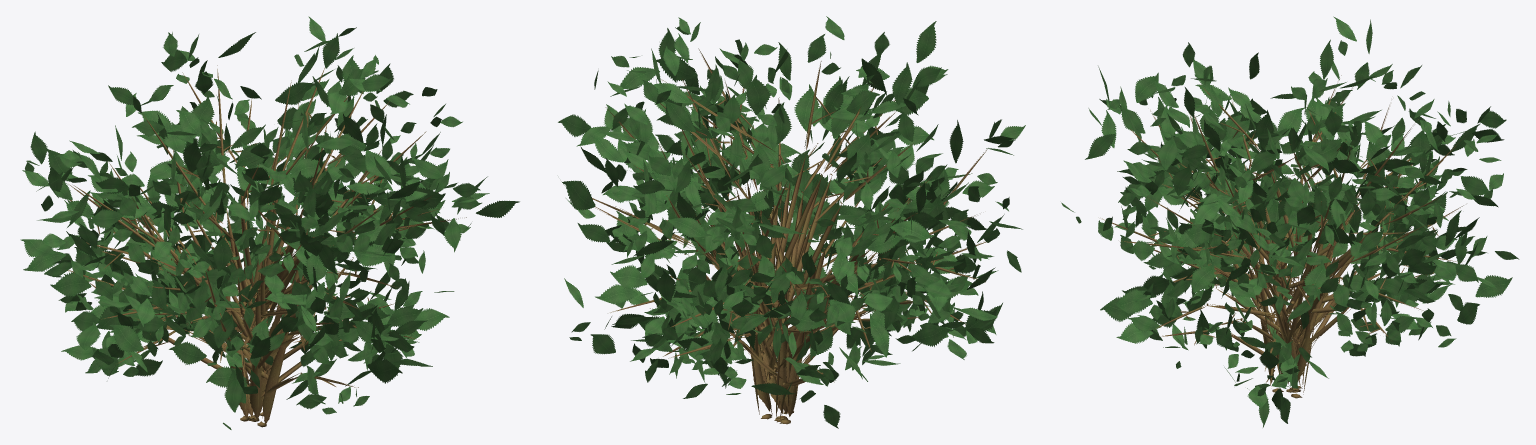
The model's file is SHRUB_01_Hawthorn_Compact.glb.
3 views of the same model, side by side, from view 1: azimuth 30°, elevation 25°; view 2: azimuth 150°, elevation 25°; view 3: azimuth 270°, elevation 25° (orthographic). The views are drawn at different scales.
Parts seen in each view (by area): view 1: SHRUB_01_Hawthorn_Compact__FoliageCards, SHRUB_01_Hawthorn_Compact__WoodyStems; view 2: SHRUB_01_Hawthorn_Compact__FoliageCards, SHRUB_01_Hawthorn_Compact__WoodyStems; view 3: SHRUB_01_Hawthorn_Compact__FoliageCards, SHRUB_01_Hawthorn_Compact__WoodyStems.
Boxes of the visible parts, x1,y1,x2,y2 form: SHRUB_01_Hawthorn_Compact__FoliageCards: [20, 16, 519, 429]; SHRUB_01_Hawthorn_Compact__WoodyStems: [67, 65, 466, 427]; SHRUB_01_Hawthorn_Compact__FoliageCards: [558, 16, 1025, 428]; SHRUB_01_Hawthorn_Compact__WoodyStems: [592, 48, 996, 424]; SHRUB_01_Hawthorn_Compact__FoliageCards: [1061, 16, 1519, 427]; SHRUB_01_Hawthorn_Compact__WoodyStems: [1102, 75, 1465, 398].
Bounding box in the file's own units: 1.73 × 1.43 × 1.81.
Materials: 1 (1 with a texture image).
